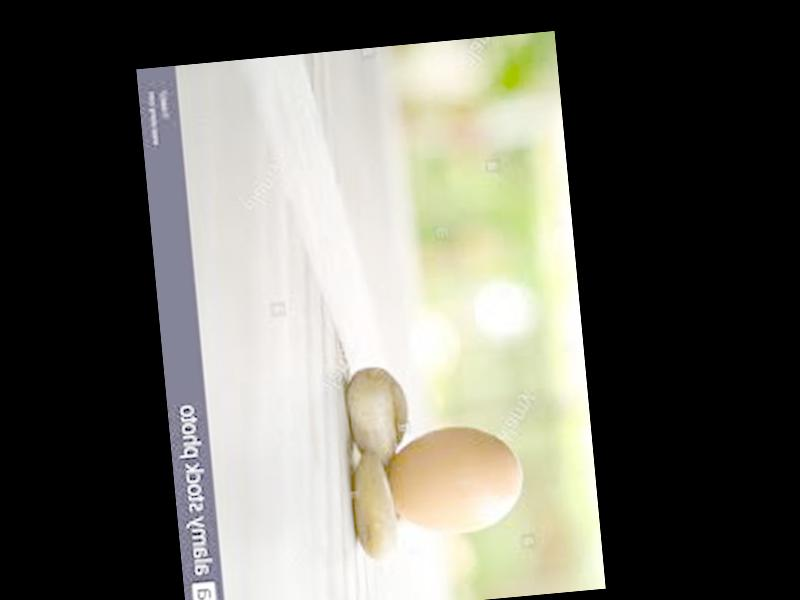Eggs: (384, 420, 525, 541)
